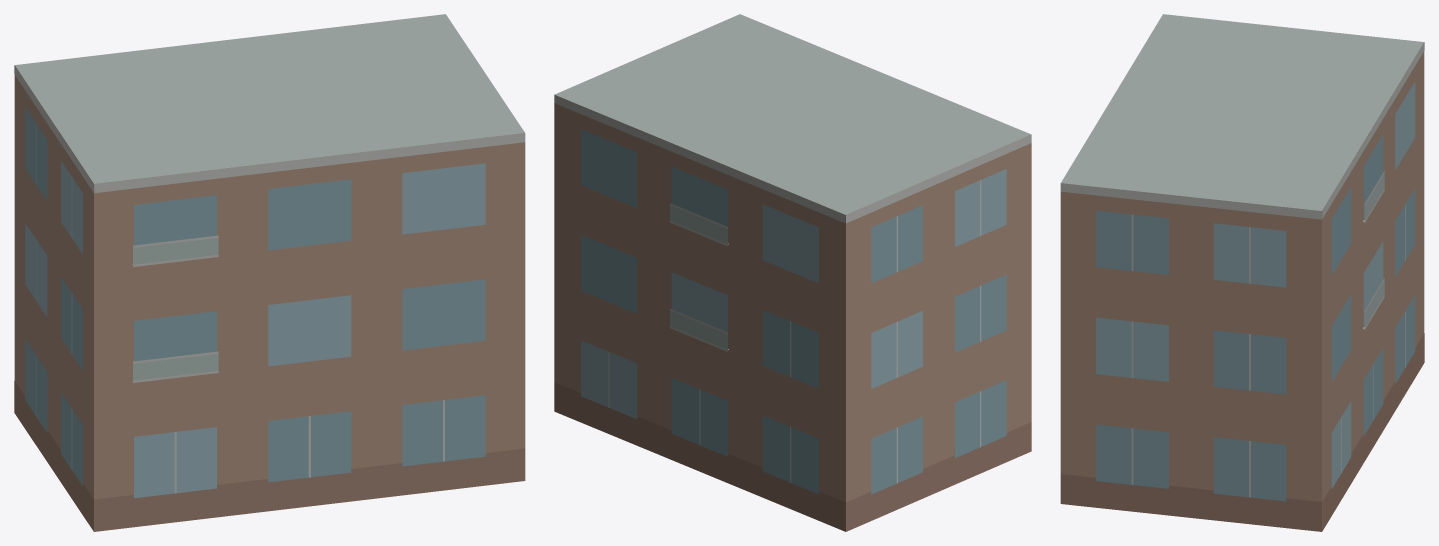
Rendered from survey-upis-32718312.glb.
3 views of the same model, side by side, from view 1: azimuth 30°, elevation 25°; view 2: azimuth 150°, elevation 25°; view 3: azimuth 270°, elevation 25° (orthographic). The views are drawn at different scales.
Parts seen in each view (by area): view 1: survey-upis-32718312.tmp; view 2: survey-upis-32718312.tmp; view 3: survey-upis-32718312.tmp.
Part boxes in pixels (x1,y1,x2,y2): survey-upis-32718312.tmp: (14, 14, 525, 531); survey-upis-32718312.tmp: (554, 14, 1031, 531); survey-upis-32718312.tmp: (1060, 14, 1424, 531).
Size of the model in its own units: 12.07 by 9.15 by 9.41.
